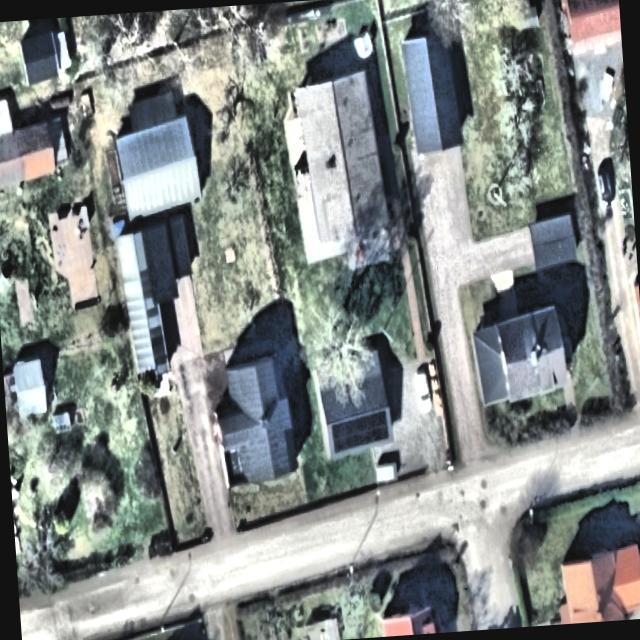roof_pv: (328, 410, 393, 454)
